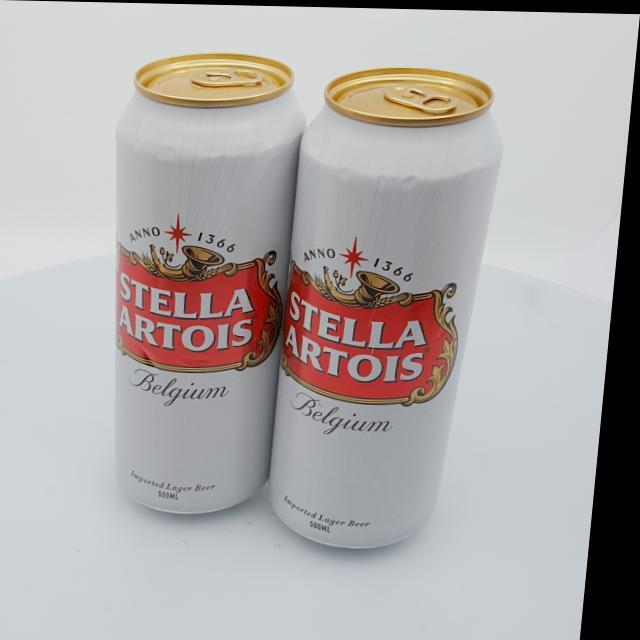beer-can: (271, 62, 513, 549), (89, 49, 318, 515)
